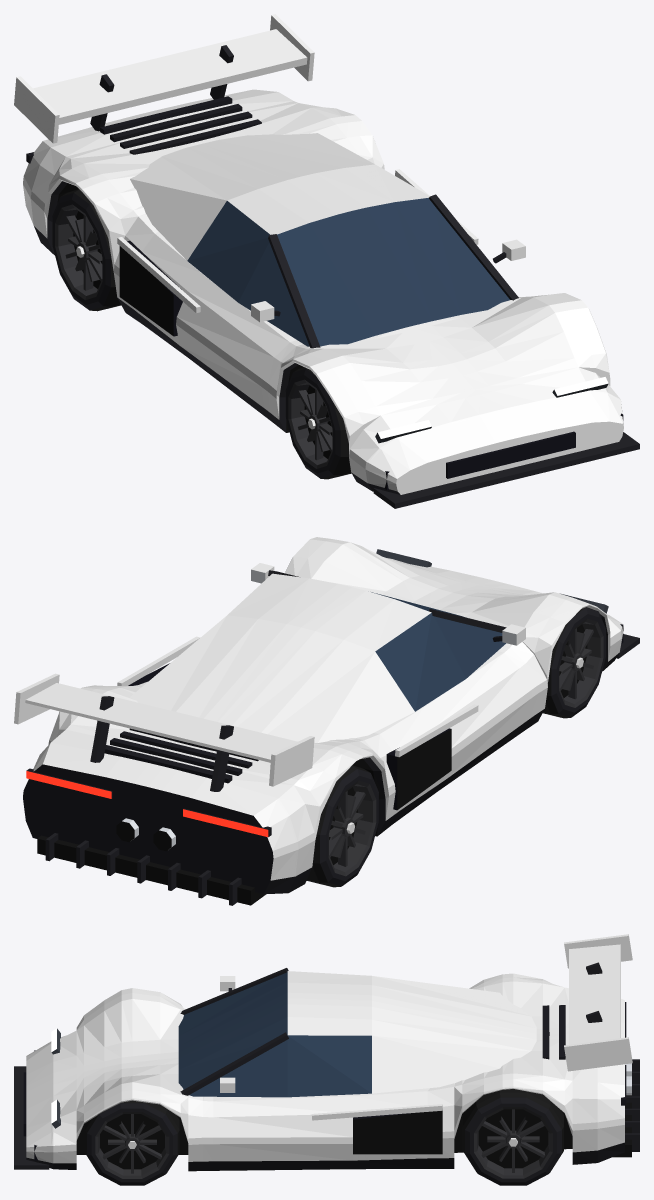
Rendered from hyper.glb.
3 renders of one model, top to bottom at view 1: azimuth 30°, elevation 25°; view 2: azimuth 150°, elevation 25°; view 3: azimuth 270°, elevation 25°, orthographic. The views are drawn at different scales.
Parts seen in each view (by area): view 1: paint, glass, stripe_a, accent, trim_carbon, part_16 (×2), trim, tire_side (×2), trim_under, trim_grille, stripe_b, headlight (+1 smaller); view 2: paint, trim, stripe_a, accent, glass, trim_carbon, trim_under, part_16 (×2), tire_side (×2), stripe_b, taillight, tire (+3 smaller); view 3: paint, glass, stripe_a, trim_under (×3), accent, trim_carbon, part_16 (×2), tire_side (×2), stripe_b, tire (×2), trim, trim_grille.
Part boxes in pixels (left/top/right/bottom): paint: left=23, top=89, right=623, bottom=494; glass: left=187, top=197, right=509, bottom=346; stripe_a: left=105, top=102, right=552, bottom=450; accent: left=14, top=14, right=478, bottom=313; trim_carbon: left=34, top=45, right=639, bottom=508; part_16 (×2): left=55, top=204, right=332, bottom=468; trim: left=26, top=96, right=506, bottom=316; tire_side (×2): left=52, top=192, right=340, bottom=478; trim_under: left=57, top=183, right=303, bottom=432; trim_grille: left=127, top=240, right=623, bottom=490; stripe_b: left=23, top=175, right=623, bottom=483; headlight: left=377, top=377, right=608, bottom=438; paint: left=27, top=537, right=623, bottom=880; trim: left=23, top=636, right=502, bottom=894; stripe_a: left=105, top=570, right=535, bottom=797; accent: left=14, top=636, right=478, bottom=786; glass: left=371, top=592, right=505, bottom=711; trim_carbon: left=45, top=570, right=639, bottom=905; trim_under: left=37, top=670, right=602, bottom=905; part_16 (×2): left=328, top=618, right=603, bottom=876; tire_side (×2): left=320, top=607, right=605, bottom=886; stripe_b: left=272, top=559, right=623, bottom=858; taillight: left=26, top=771, right=268, bottom=836; tire: left=306, top=765, right=370, bottom=887; paint: left=26, top=971, right=624, bottom=1163; glass: left=178, top=971, right=371, bottom=1097; stripe_a: left=26, top=982, right=624, bottom=1109; trim_under (×3): left=76, top=1095, right=631, bottom=1169; accent: left=311, top=934, right=632, bottom=1120; trim_carbon: left=14, top=962, right=639, bottom=1171; part_16 (×2): left=95, top=1107, right=552, bottom=1178; tire_side (×2): left=87, top=1097, right=561, bottom=1185; stripe_b: left=26, top=1086, right=624, bottom=1152; tire (×2): left=85, top=1089, right=563, bottom=1173; trim: left=228, top=988, right=626, bottom=1105; trim_grille: left=23, top=1050, right=415, bottom=1160.
Size of the model in its own units: 1.98 by 1.19 by 4.6.
